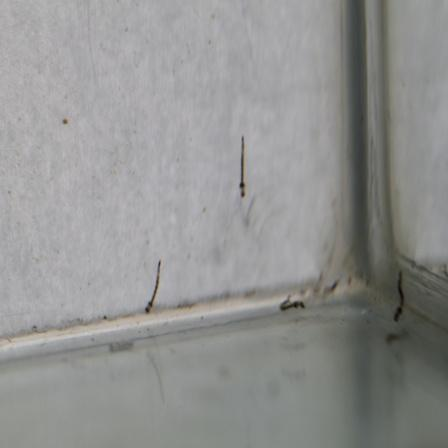Jentik-Nyamuk: (143, 257, 167, 316), (235, 133, 252, 201), (389, 268, 409, 325), (276, 294, 309, 317)
